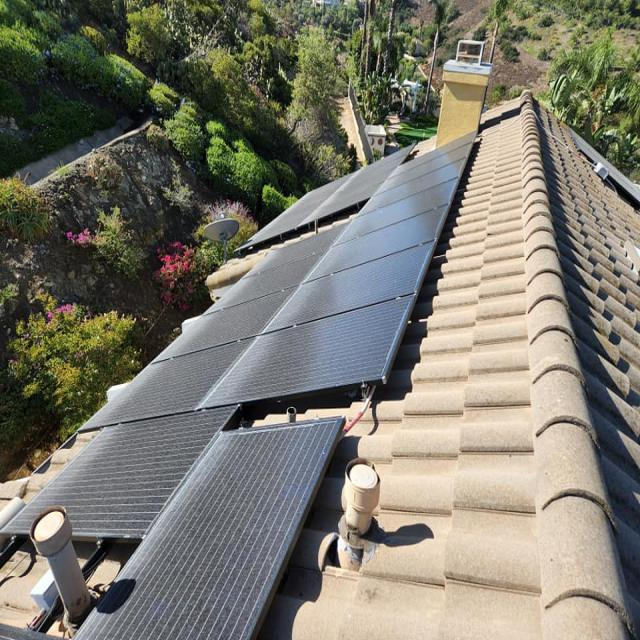dust-solar-panel: (0, 127, 479, 640)
